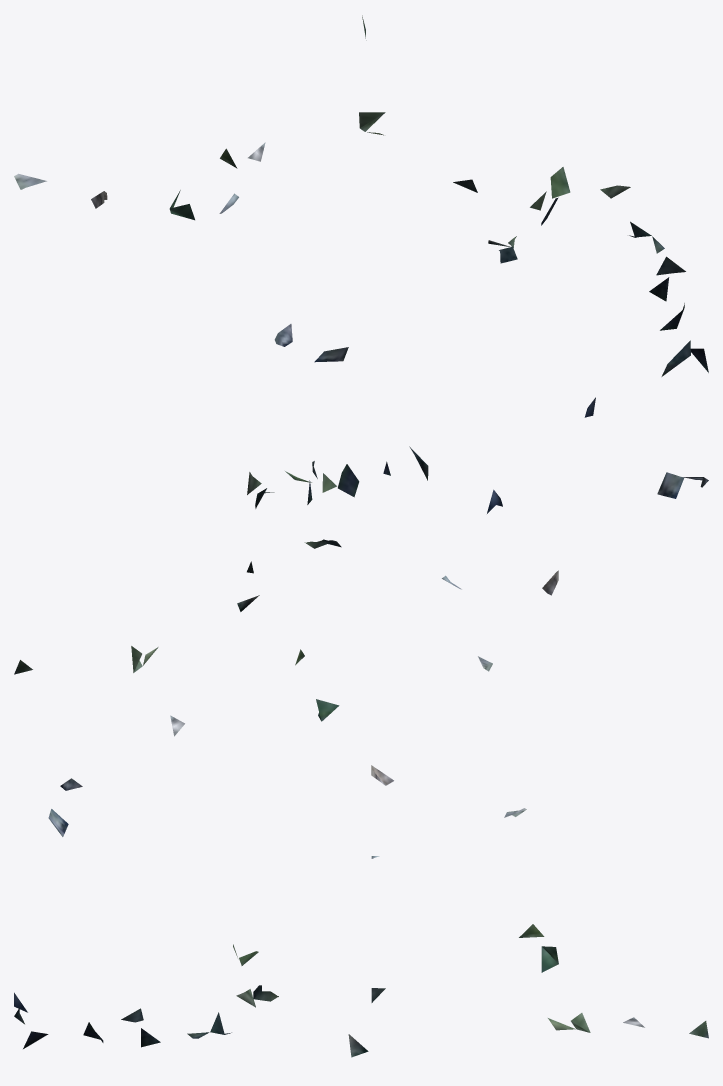
The picture shows the model from 3 angles, top to bottom: view 1: azimuth 30°, elevation 25°; view 2: azimuth 150°, elevation 25°; view 3: azimuth 270°, elevation 25°; orthographic projection. The views are drawn at different scales.
Parts seen in each view (by area): view 1: 3043627270437061772_1; view 2: 3043627270437061772_1; view 3: 3043627270437061772_1.
Part boxes in pixels (box(x1,y1,x2,y2)): 3043627270437061772_1: box(14, 15, 708, 417); 3043627270437061772_1: box(14, 446, 708, 736); 3043627270437061772_1: box(14, 765, 708, 1057).
Size of the model in its own units: 48.8 by 16.01 by 74.36.
Materials: 1 (1 with a texture image).
